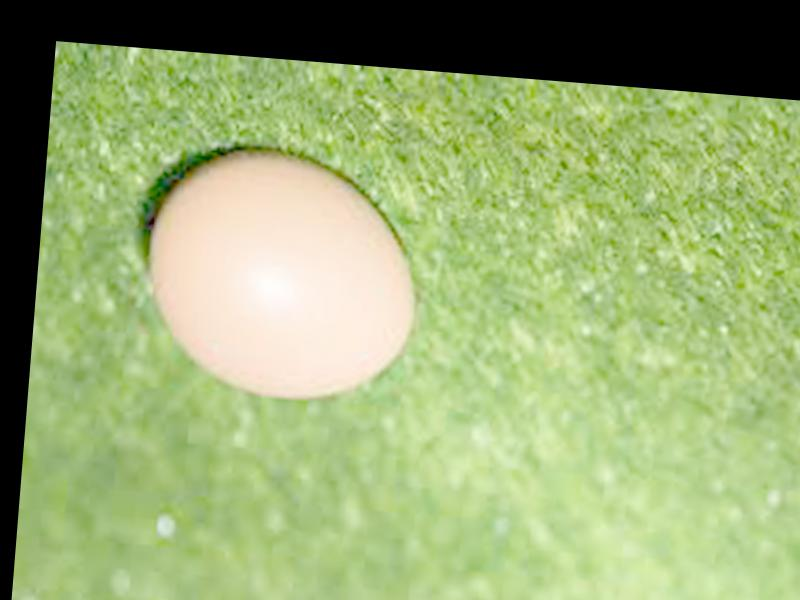Eggs: (137, 140, 429, 404)
